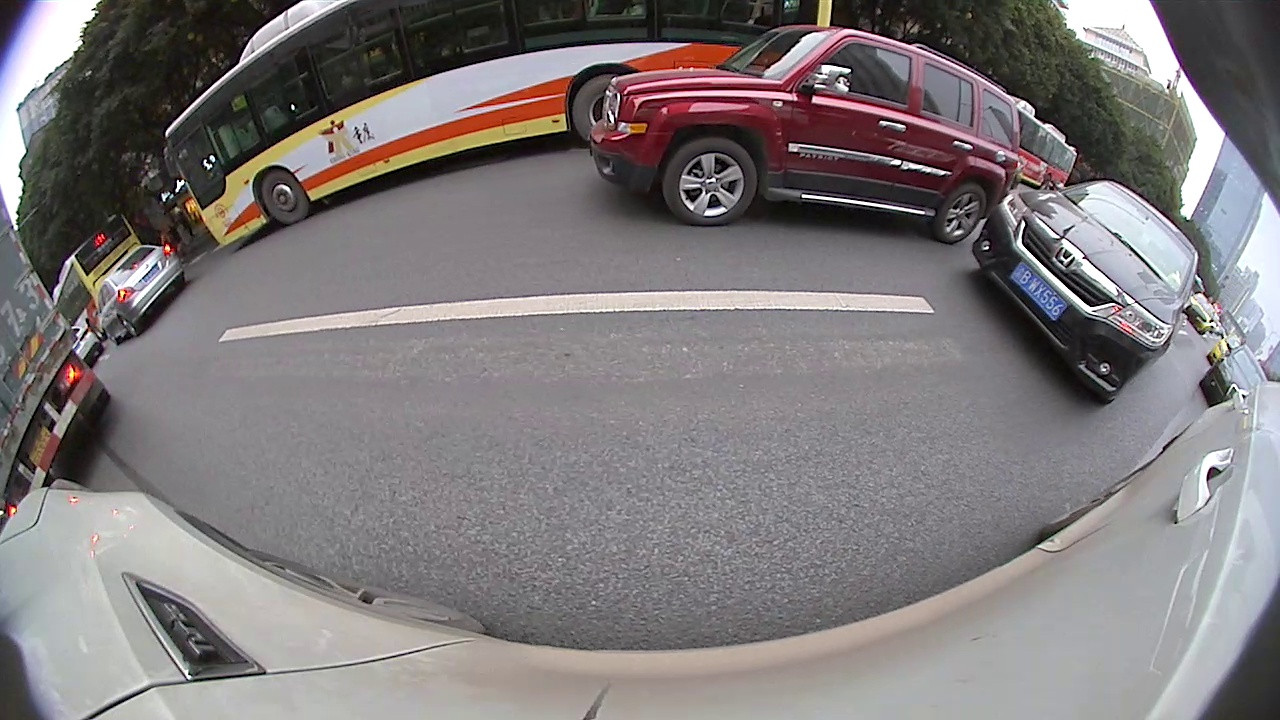bus: (166, 1, 832, 258), (53, 213, 141, 328), (1011, 99, 1077, 194)
car: (590, 27, 1021, 248), (977, 178, 1199, 409), (96, 243, 187, 347), (1198, 346, 1268, 406)
front: (662, 137, 758, 225), (262, 170, 309, 225)
rear: (932, 182, 986, 242), (120, 316, 141, 338)
truck: (2, 196, 109, 492)
